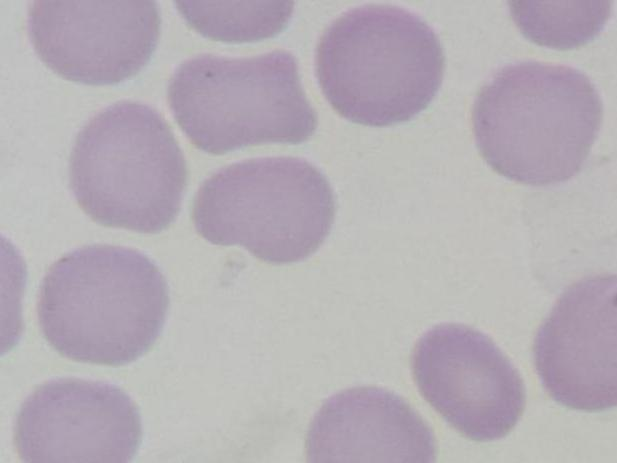Uninfected: (470, 59, 601, 191), (169, 47, 318, 162), (36, 243, 166, 367), (70, 98, 189, 233), (319, 7, 445, 131), (193, 158, 334, 266), (409, 320, 526, 443), (26, 0, 165, 89), (534, 273, 617, 410), (15, 378, 145, 463), (306, 380, 438, 463)
